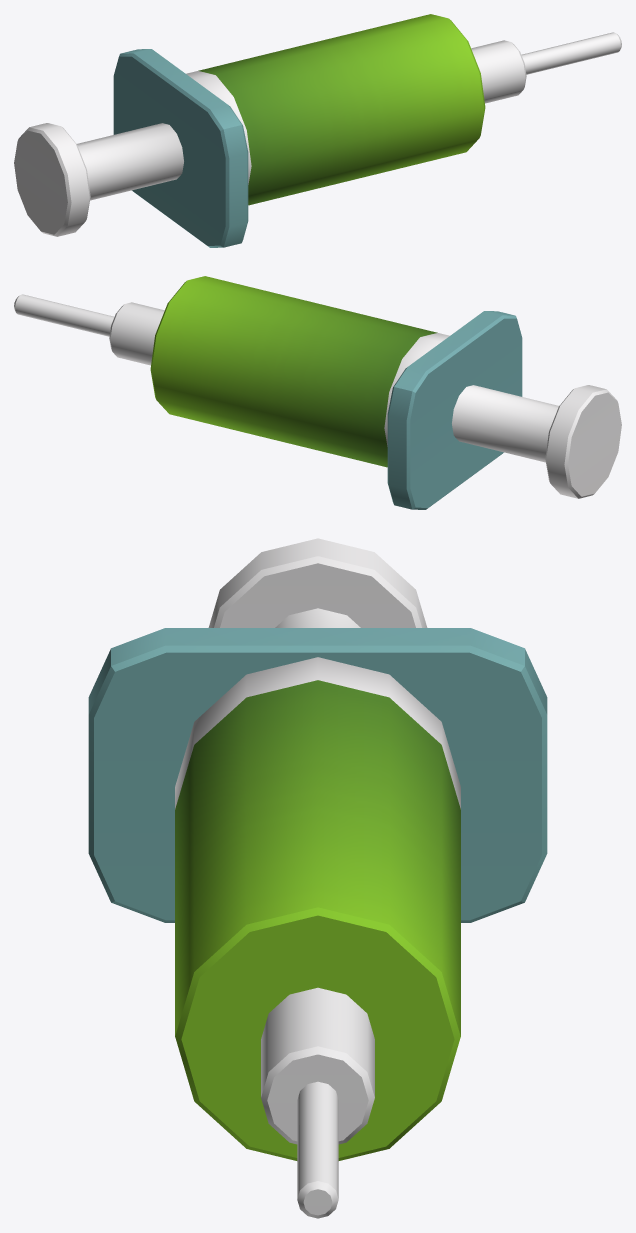
File: Item_Injection.fbx
3 renders of one model, top to bottom at view 1: azimuth 30°, elevation 25°; view 2: azimuth 150°, elevation 25°; view 3: azimuth 270°, elevation 25°, orthographic. The views are drawn at different scales.
Visible parts, largest first — view 1: Item_Injection; view 2: Item_Injection; view 3: Item_Injection.
Boxes of the visible parts, <box> form: Item_Injection: <box>14,14,621,247</box>; Item_Injection: <box>14,276,621,509</box>; Item_Injection: <box>88,538,547,1218</box>.
Size of the model in its own units: 53.34 by 12.24 by 18.35.
